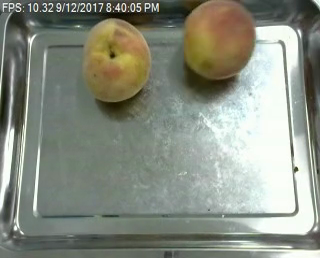Peach: (81, 17, 151, 102), (183, 0, 255, 80)
